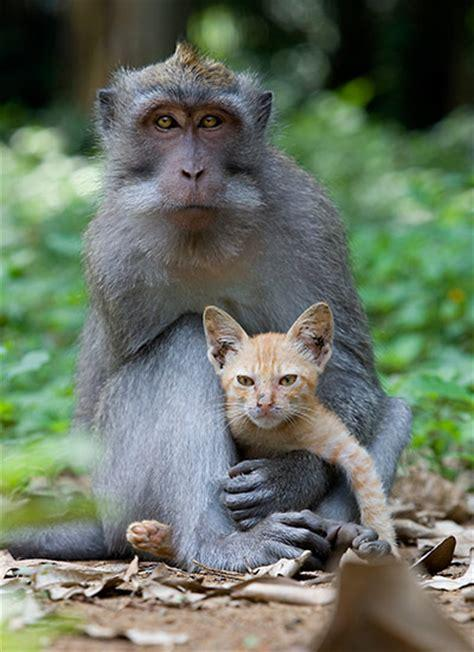cat: (203, 304, 392, 551)
monkey: (1, 52, 407, 569)
